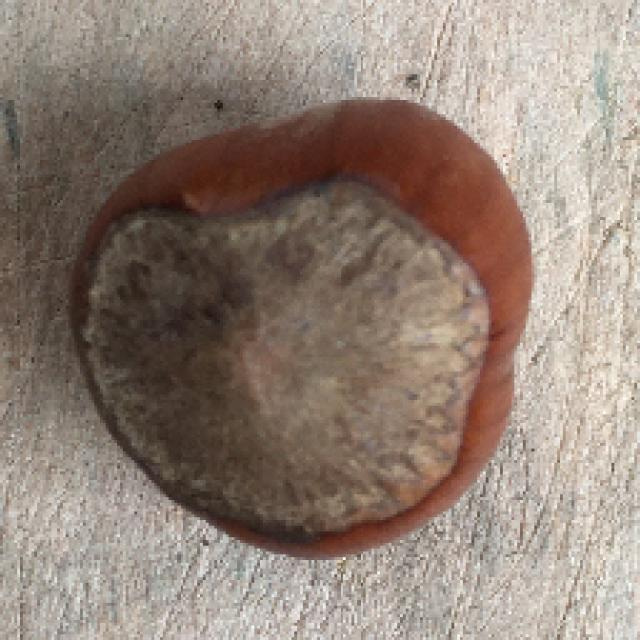qualityHazelnut: (50, 104, 544, 560)
